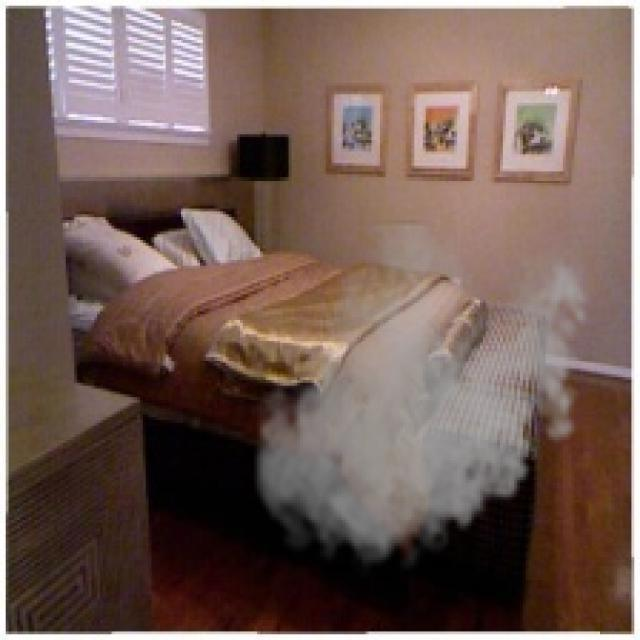Smoke: (245, 220, 600, 577)
